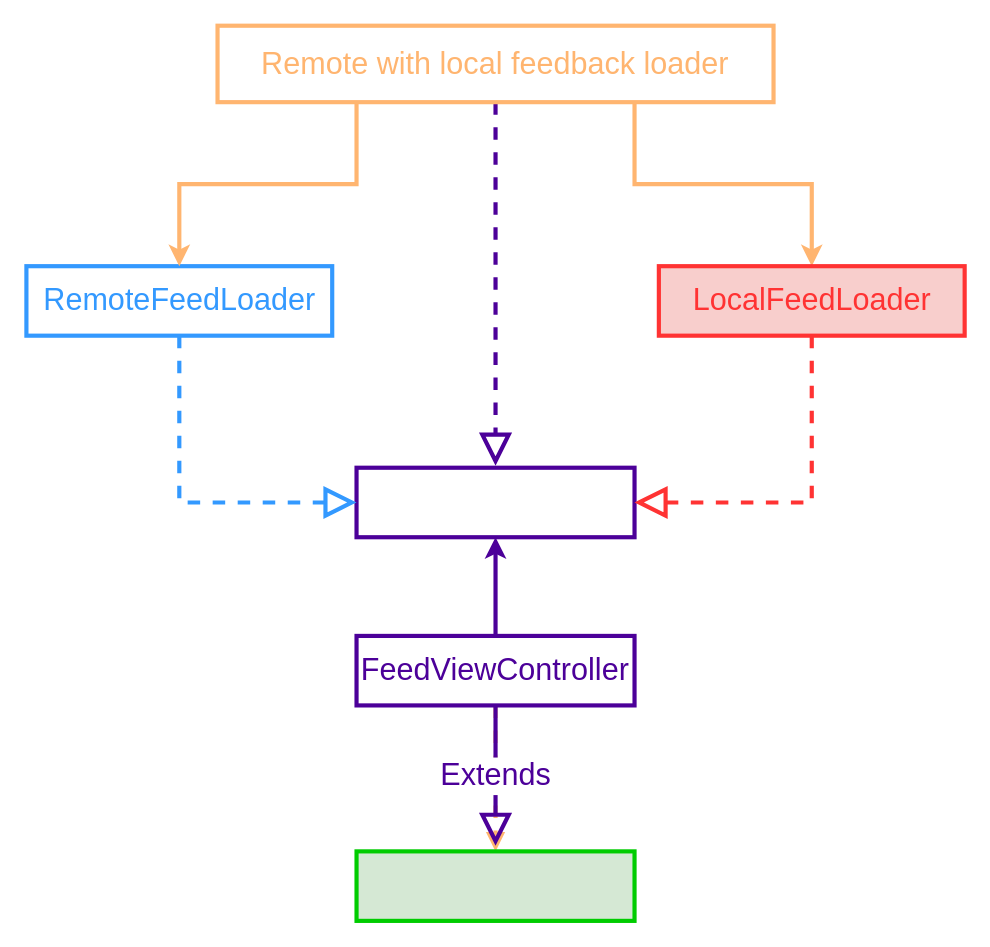
The diagram is 990 pixels wide and 947 high, and some of its shapes have lost their labels. Here are the shapes that lost their labels. From the top down, the box of each, then its label:
(354, 465, 636, 539): <FeedLoader>
(354, 849, 636, 922): UIViewController
